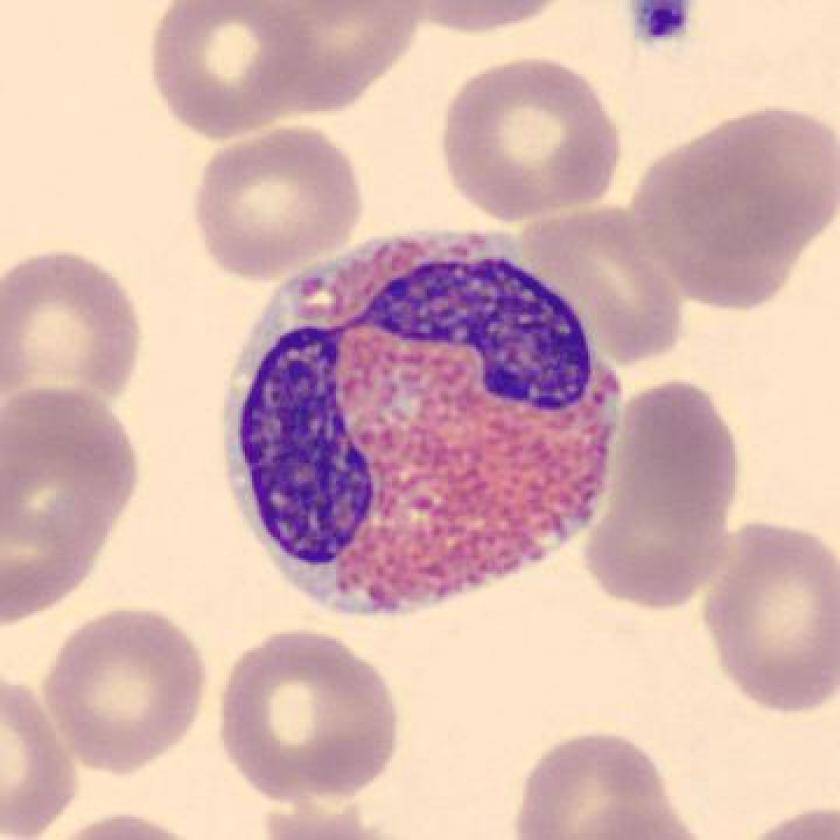eosinophil: (209, 217, 640, 631)
